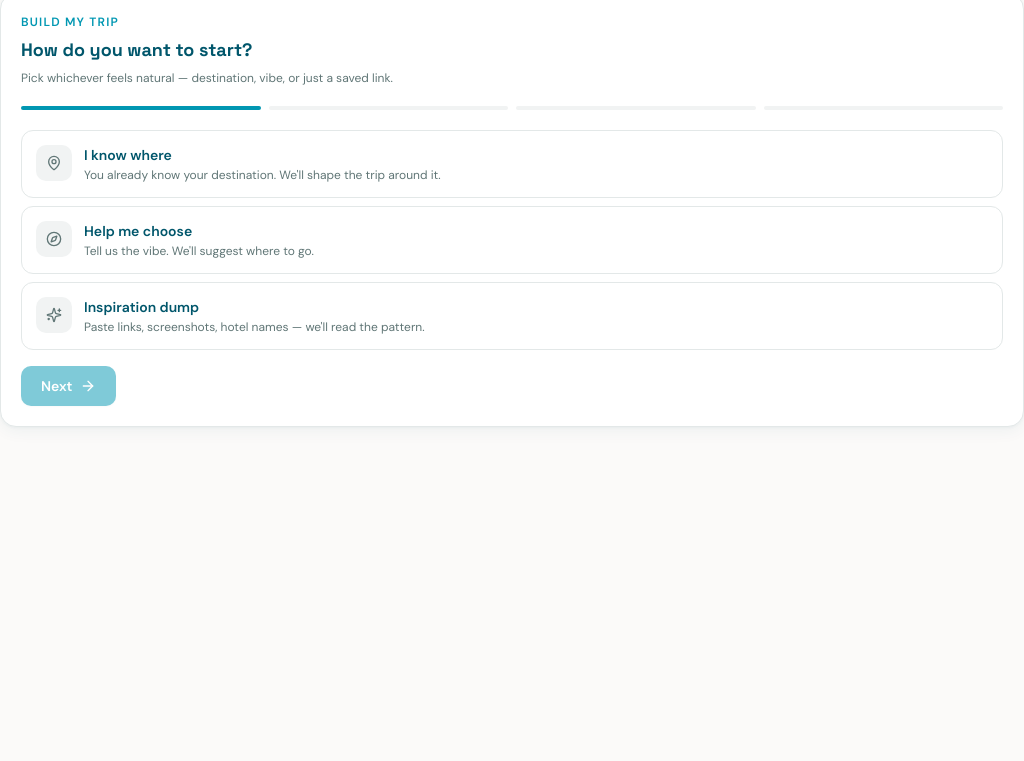
Test: TravelerBuildTripFlow › shows medium-strength shaping output before any save flow
The width and height of the screenshot is (1024, 761).
Click the text "Inspiration dump" at (142, 307), box top-left (84, 298), bottom-right (199, 316)
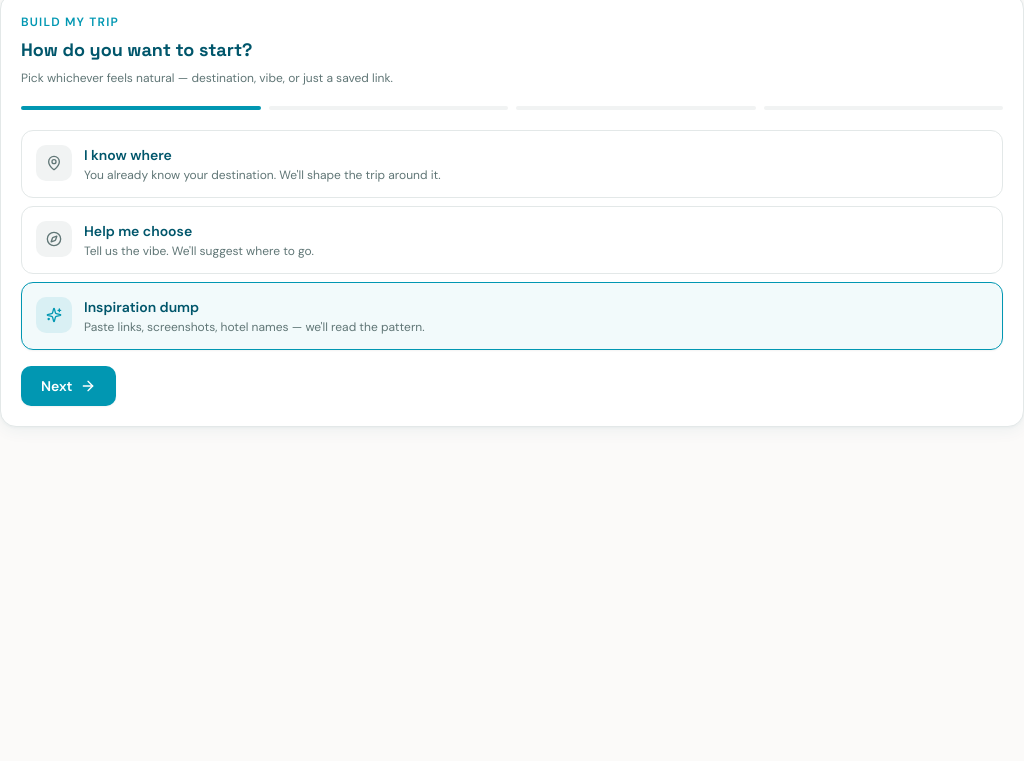
Click the button "Next" at (69, 386), box top-left (21, 366), bottom-right (116, 406)
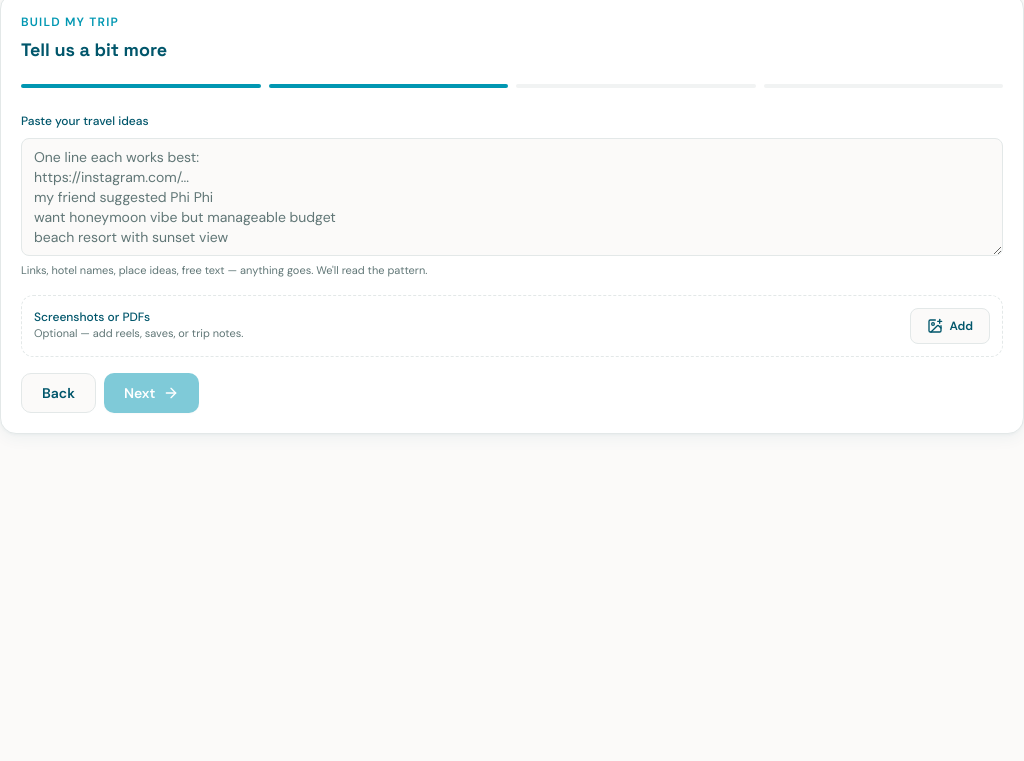
Replace the text in the text box with placeholder "One line each works best" with "want honeymoon vibe but manageable budget and a sunset resort" at (512, 197), box top-left (21, 138), bottom-right (1003, 256)
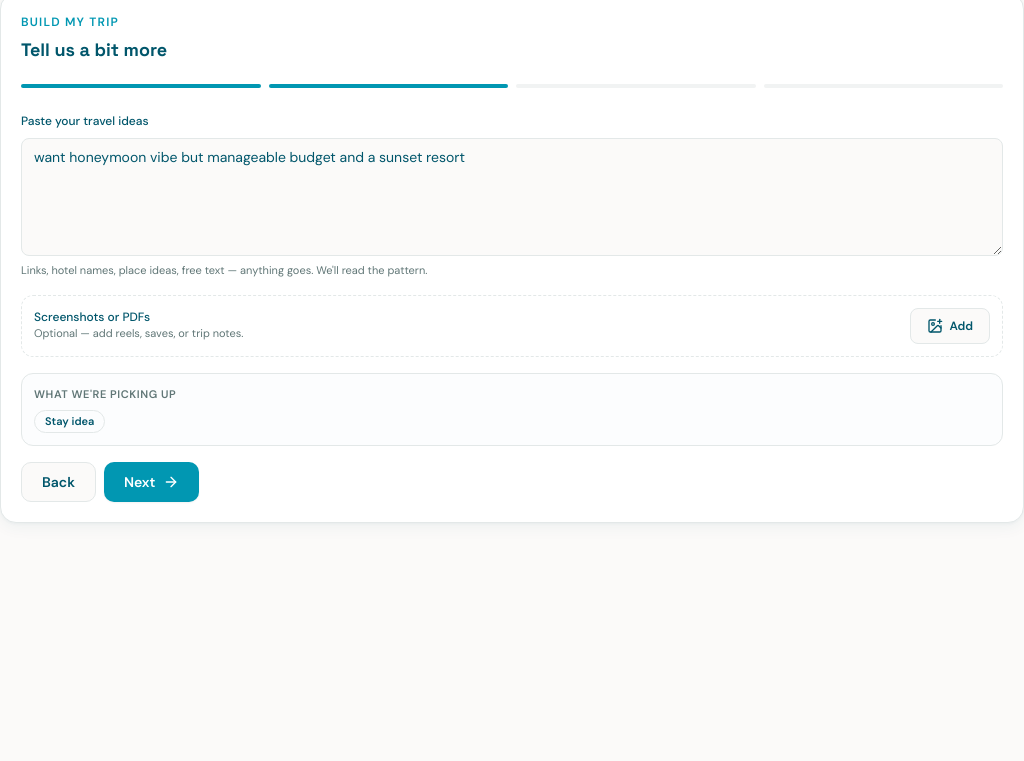
Click the button "Next" at (152, 482), box top-left (104, 462), bottom-right (200, 502)
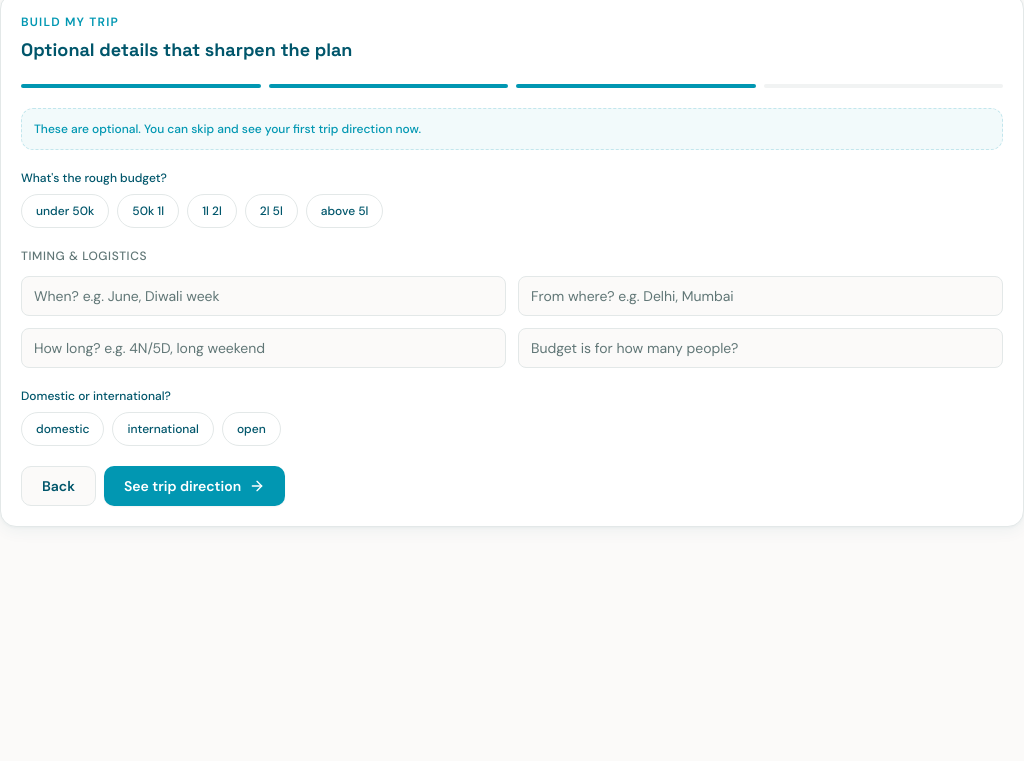
Click the button "See trip direction" at (195, 486), box top-left (104, 466), bottom-right (285, 506)
(page scrolled)
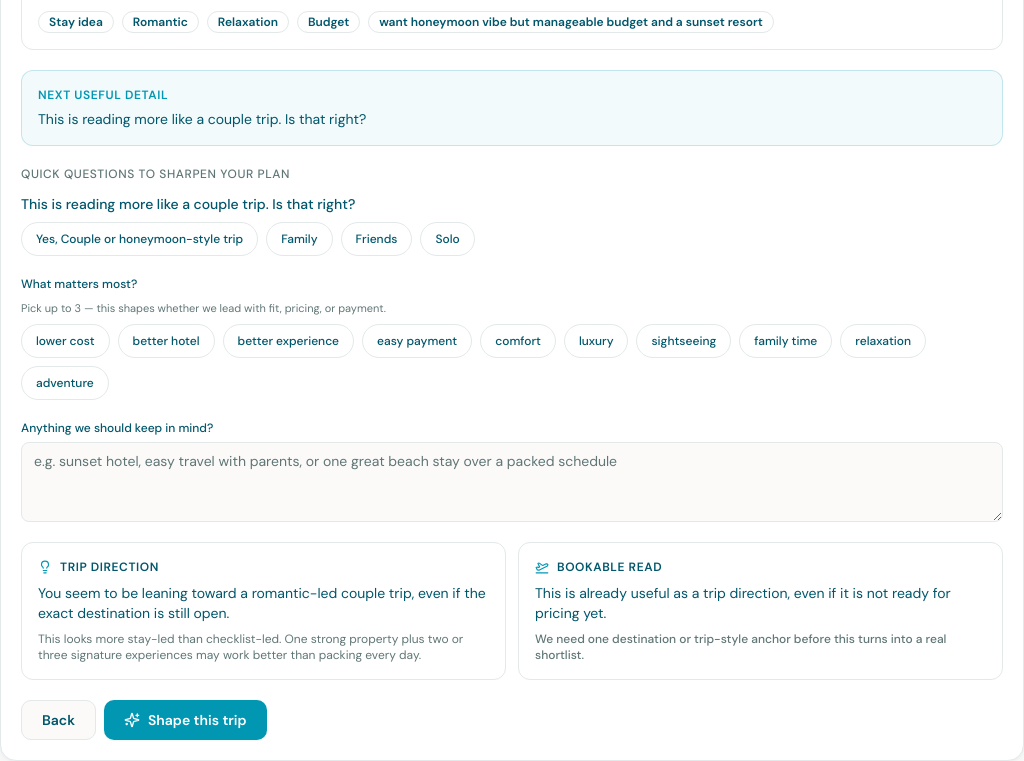
Now the text "Trip direction" is shown, box top-left (60, 559), bottom-right (159, 575)
Now the text "Bookable read" is shown, box top-left (557, 559), bottom-right (662, 575)
